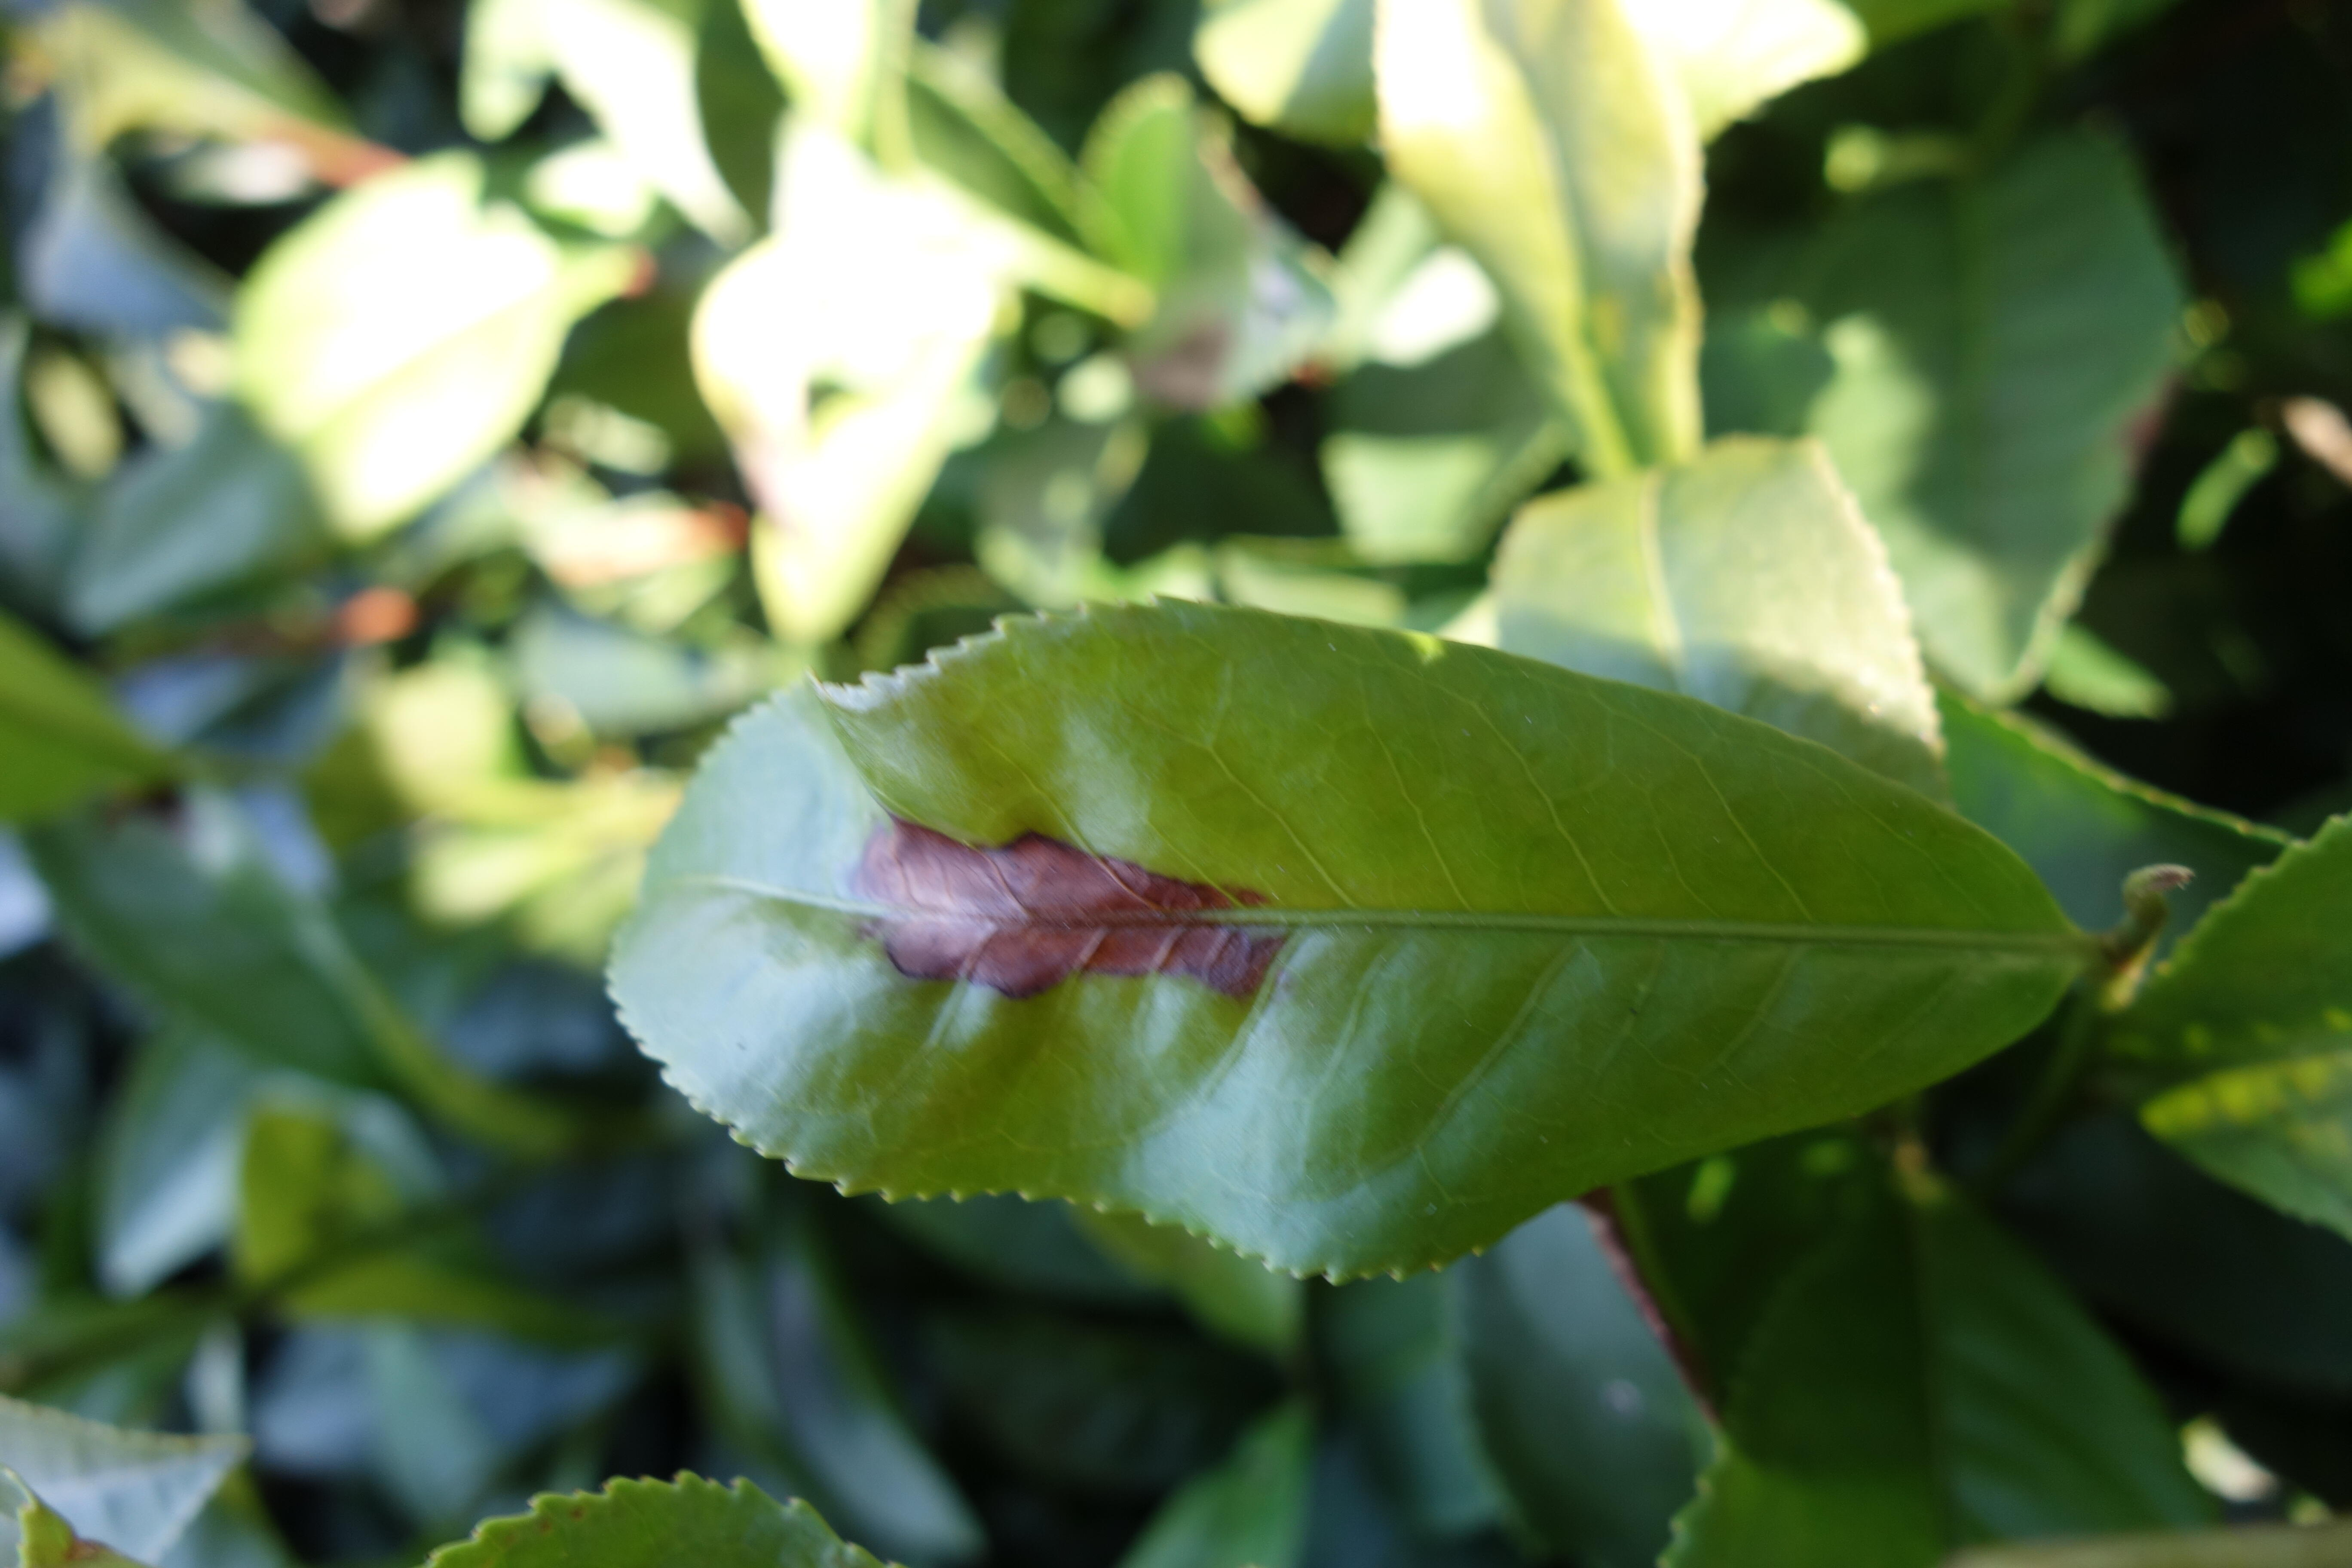tanju_high: (605, 591, 2091, 1288)
